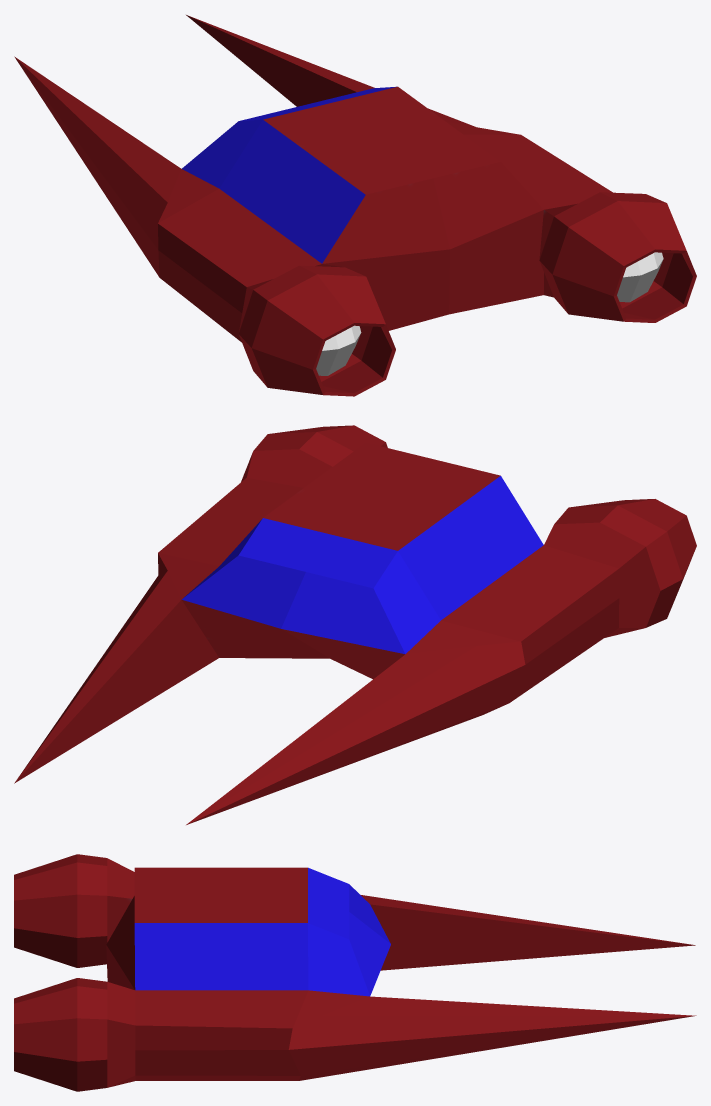
Rendered from nave.glb.
The picture shows the model from 3 angles, top to bottom: view 1: azimuth 30°, elevation 25°; view 2: azimuth 150°, elevation 25°; view 3: azimuth 270°, elevation 25°; orthographic projection. The views are drawn at different scales.
Visible parts, largest first — view 1: Cube, Sphere, Sphere.001; view 2: Cube; view 3: Cube.
Part boxes in pixels (x1,y1,x2,y2): Cube: (14, 15, 696, 396); Sphere: (617, 252, 663, 302); Sphere.001: (316, 325, 361, 375); Cube: (14, 425, 696, 824); Cube: (14, 854, 696, 1091).
Size of the model in its own units: 5.47 by 1.82 by 8.9.
3 materials, 1 textured.
